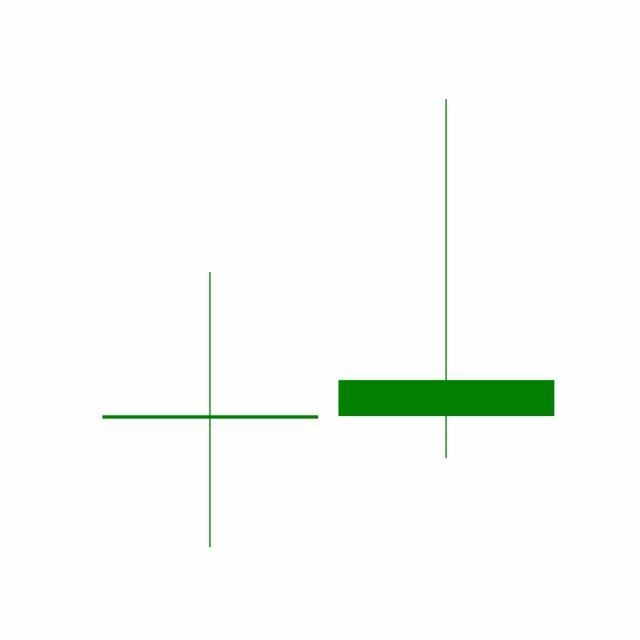Spinning Top: (328, 95, 566, 463)
